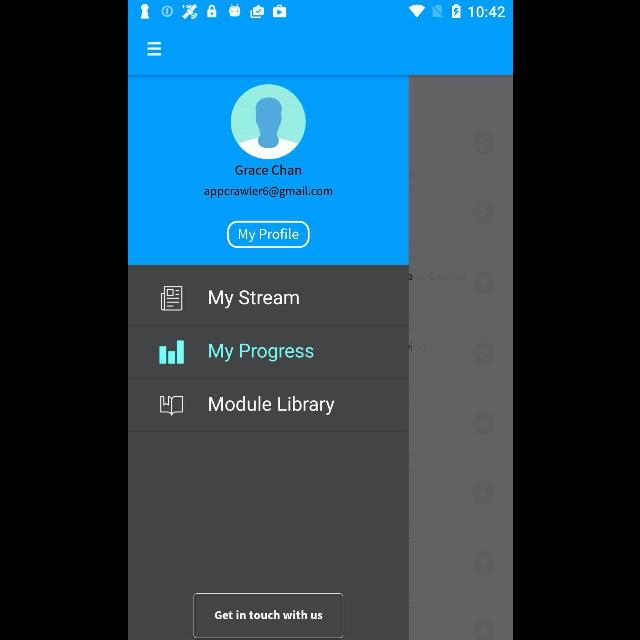icon: (230, 84, 306, 160), (158, 340, 184, 364), (160, 286, 182, 312), (159, 396, 183, 416), (146, 42, 160, 56)
panel: (127, 76, 407, 640)
text: (208, 396, 334, 416), (208, 343, 314, 362), (208, 290, 298, 308), (204, 186, 332, 198), (235, 164, 301, 176)
textbutton: (193, 594, 343, 638), (227, 222, 309, 248)
toolbar: (128, 26, 512, 76)
uppertaskbar: (128, 1, 512, 23)
